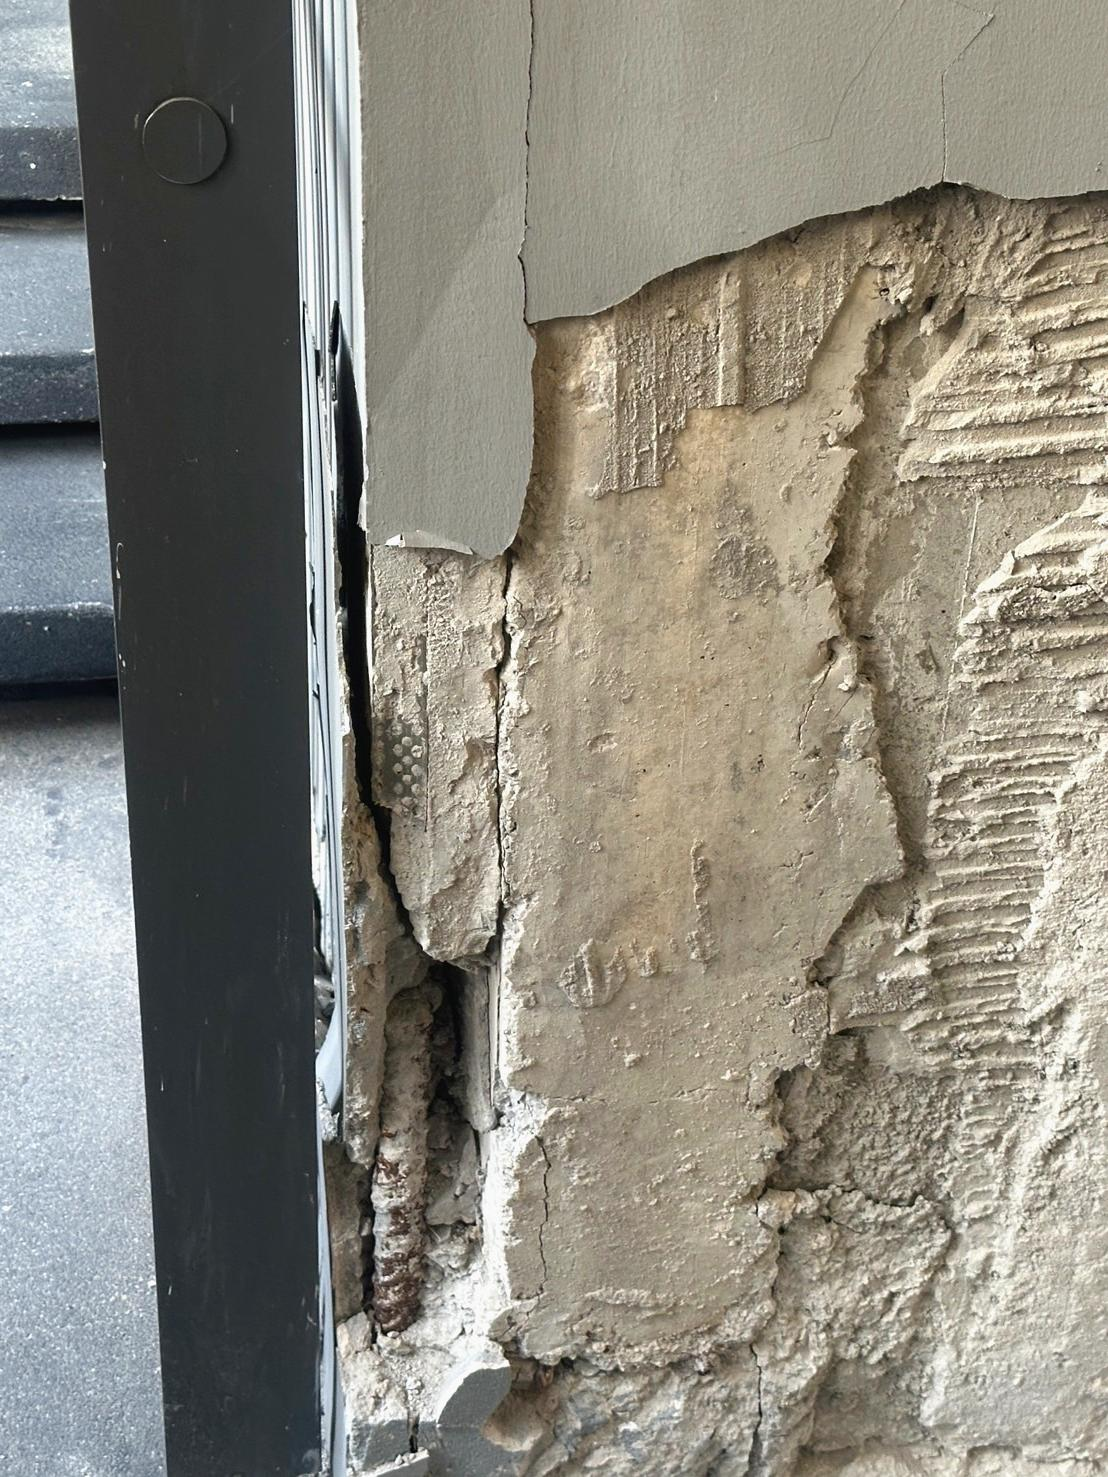High: (290, 1, 1107, 1477)
